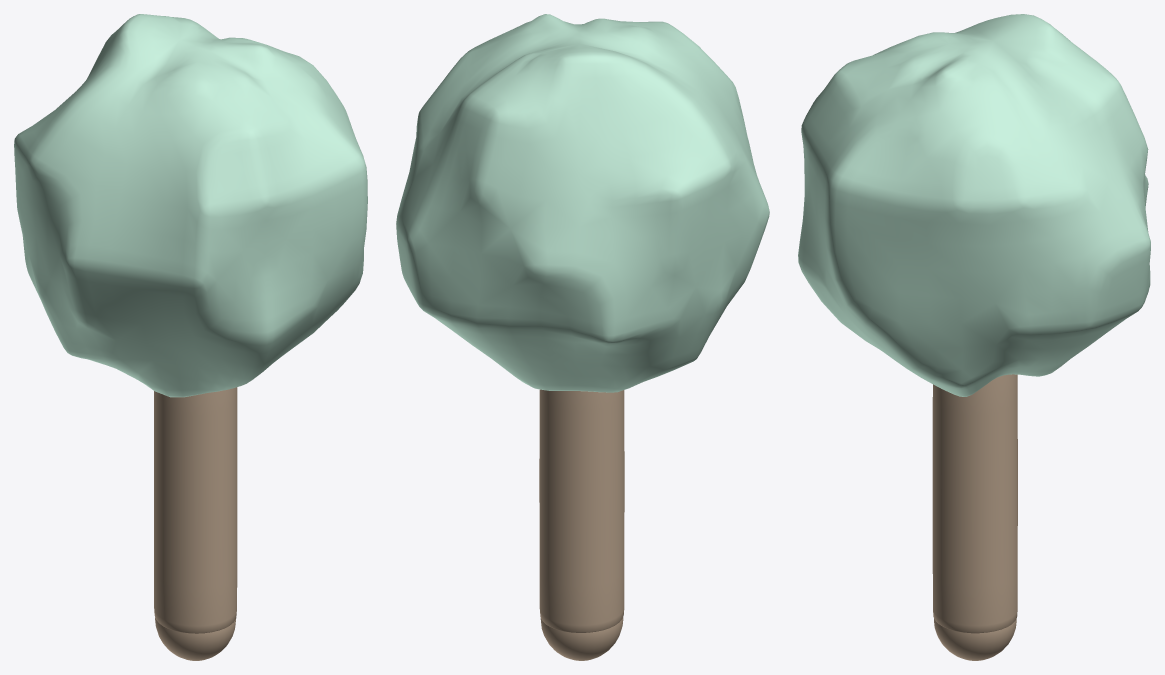
File: PROP_TreeBig_v1.glb
The picture shows the model from 3 angles, left to right: view 1: azimuth 30°, elevation 25°; view 2: azimuth 150°, elevation 25°; view 3: azimuth 270°, elevation 25°; orthographic projection.
Parts seen in each view (by area): view 1: PROP_TreeBig_v1; view 2: PROP_TreeBig_v1; view 3: PROP_TreeBig_v1.
Boxes of the visible parts, x1=… form: PROP_TreeBig_v1: x1=14, y1=14, x2=367, y2=660; PROP_TreeBig_v1: x1=396, y1=14, x2=769, y2=660; PROP_TreeBig_v1: x1=798, y1=14, x2=1150, y2=660.
Size of the model in its own units: 1.6 by 3.19 by 1.63.
